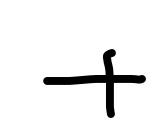plus: (43, 49, 145, 118)
